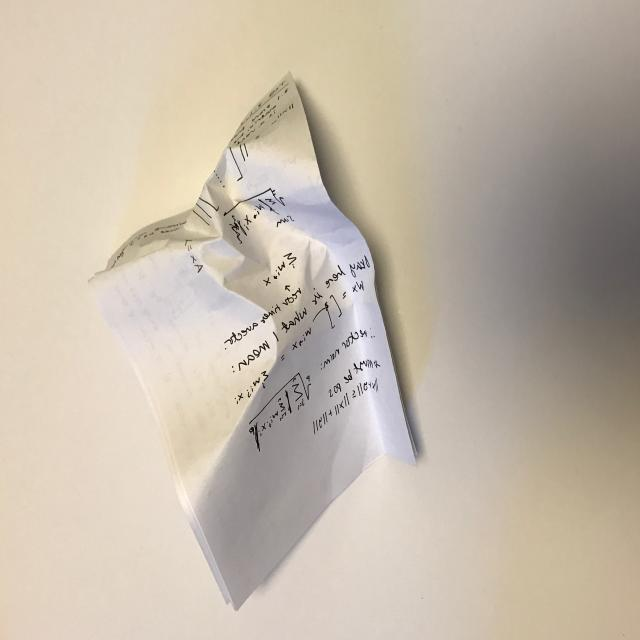paper: (72, 51, 435, 624)
